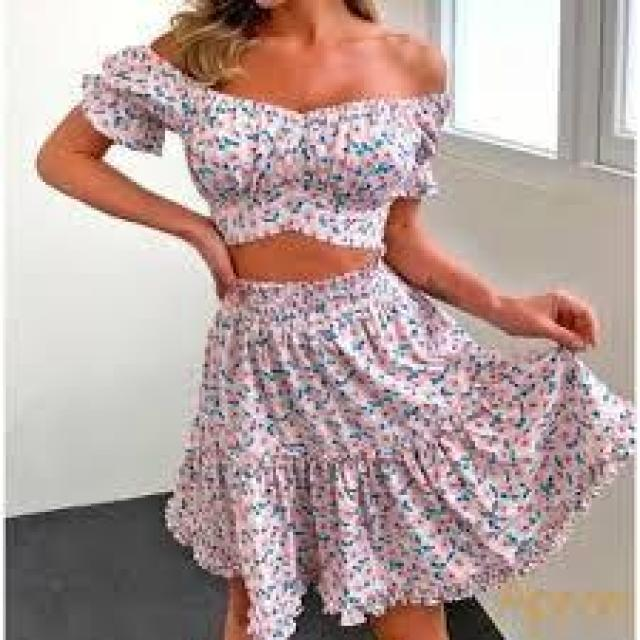Tshirt: (37, 16, 484, 263)
skirt: (117, 256, 637, 640)
